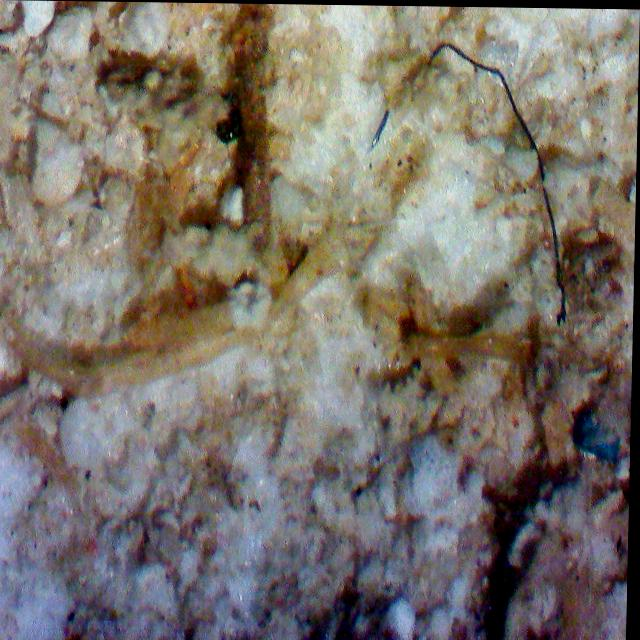microplastic: (372, 39, 567, 317)
